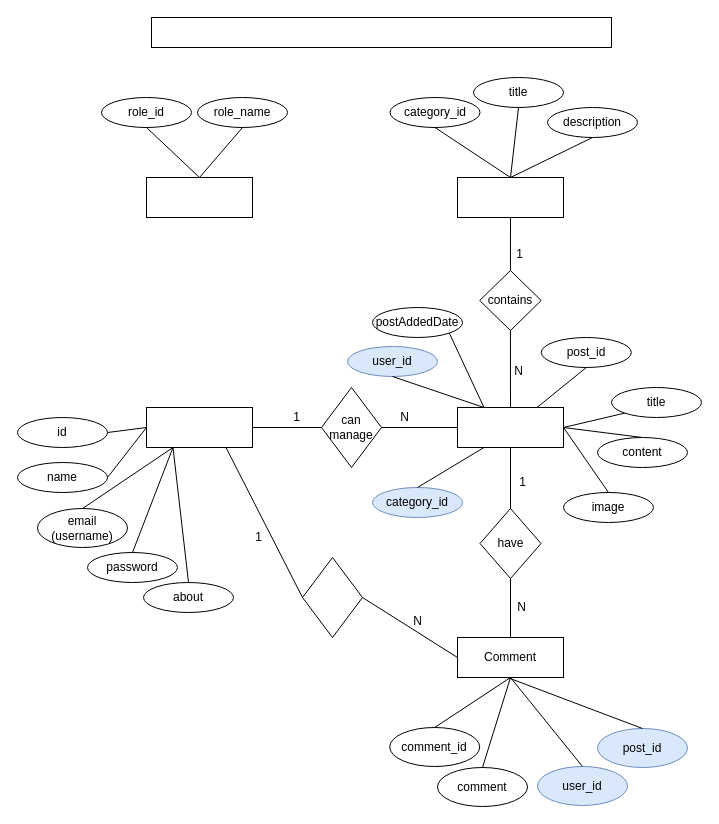
This 719x824 diagram has some shape labels left out. Here are the shapes that lost their labels. From the top down, the centre of each, then its label:
At [381,32]: "ER Diagram for Blog Application".
At [199,197]: "Role".
At [510,197]: "Category".
At [199,427]: "User".
At [510,427]: "Post".
At [332,597]: "do".
